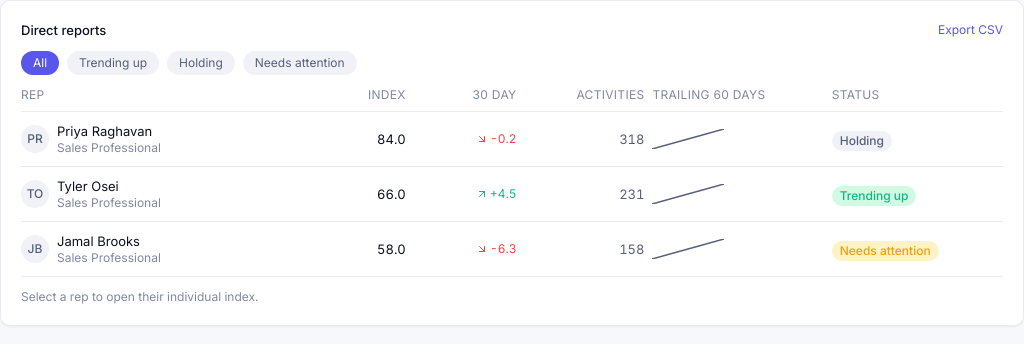
Test case: DirectReportsTable › filters rows when a status pill is chosen
The width and height of the screenshot is (1024, 344).
Click the button "Needs attention": (300, 63) [243, 51, 357, 75]
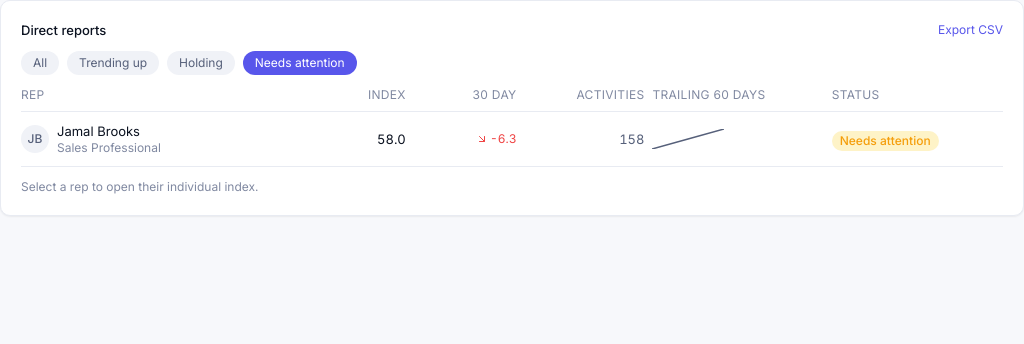
Expected: the text "Jamal Brooks" is shown, [57, 123, 140, 139]
Expected: the number of buttons with test id "direct-report-row" is 1, [21, 112, 1003, 167]
